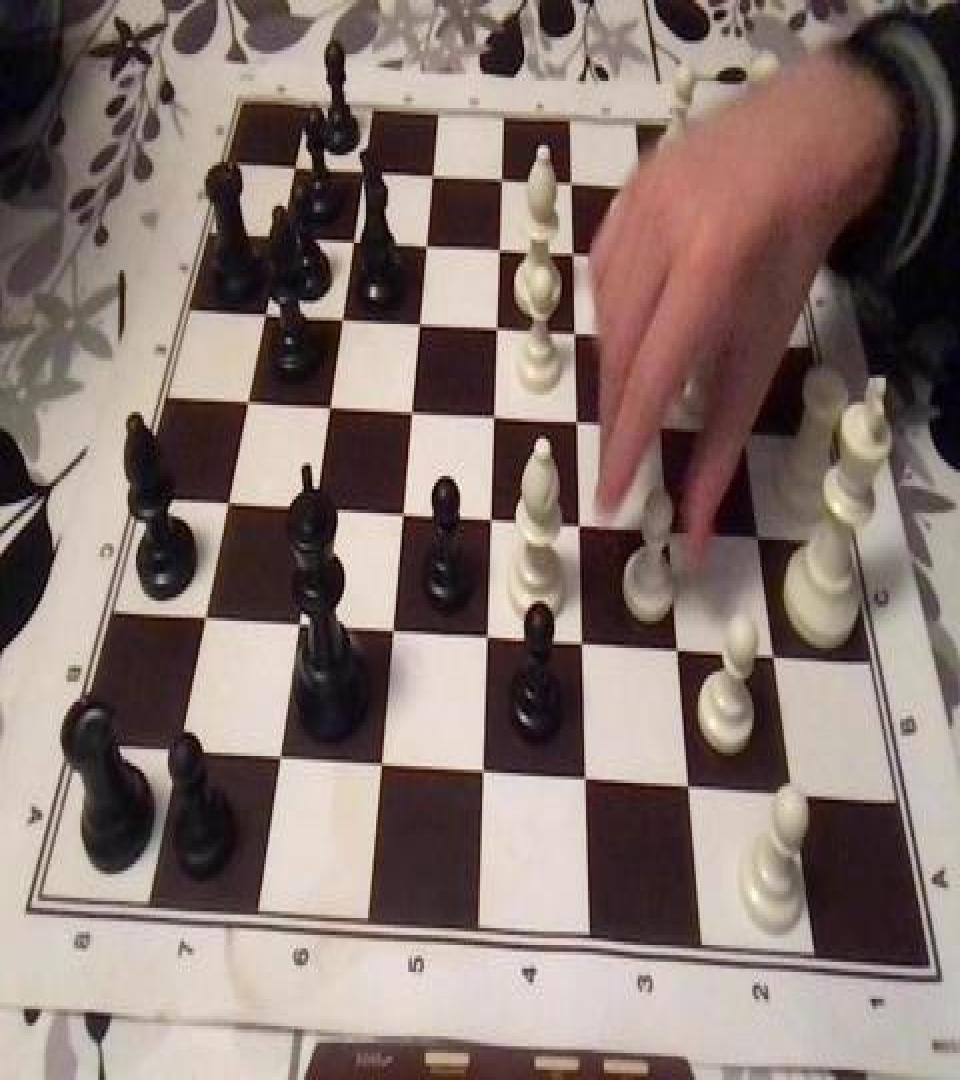xcorner: (273, 737, 297, 778), (374, 744, 398, 785), (476, 749, 500, 790), (198, 599, 222, 640), (291, 604, 315, 645), (385, 609, 409, 650), (671, 626, 695, 667), (220, 484, 244, 525), (308, 489, 332, 530), (395, 494, 419, 535), (404, 393, 428, 434), (486, 398, 510, 439), (736, 410, 760, 451), (334, 300, 358, 341), (411, 305, 435, 346), (566, 312, 590, 353), (272, 219, 296, 260), (418, 226, 442, 267), (638, 236, 662, 277), (286, 150, 310, 191), (632, 165, 656, 206), (172, 731, 196, 771), (579, 756, 603, 796), (682, 763, 706, 803), (786, 770, 810, 810), (480, 616, 504, 656), (575, 621, 599, 661), (767, 633, 791, 673), (483, 500, 507, 540), (572, 505, 596, 545), (661, 510, 685, 550), (750, 513, 774, 553), (240, 385, 264, 425), (322, 390, 346, 430), (569, 402, 593, 442), (652, 407, 676, 447), (257, 297, 281, 337), (488, 309, 512, 349), (644, 316, 668, 356), (723, 321, 747, 361), (345, 223, 369, 263), (491, 230, 515, 270), (564, 233, 588, 273), (712, 240, 736, 280), (355, 154, 379, 194), (423, 157, 447, 197), (493, 159, 517, 199), (562, 162, 586, 202), (702, 169, 726, 209)
